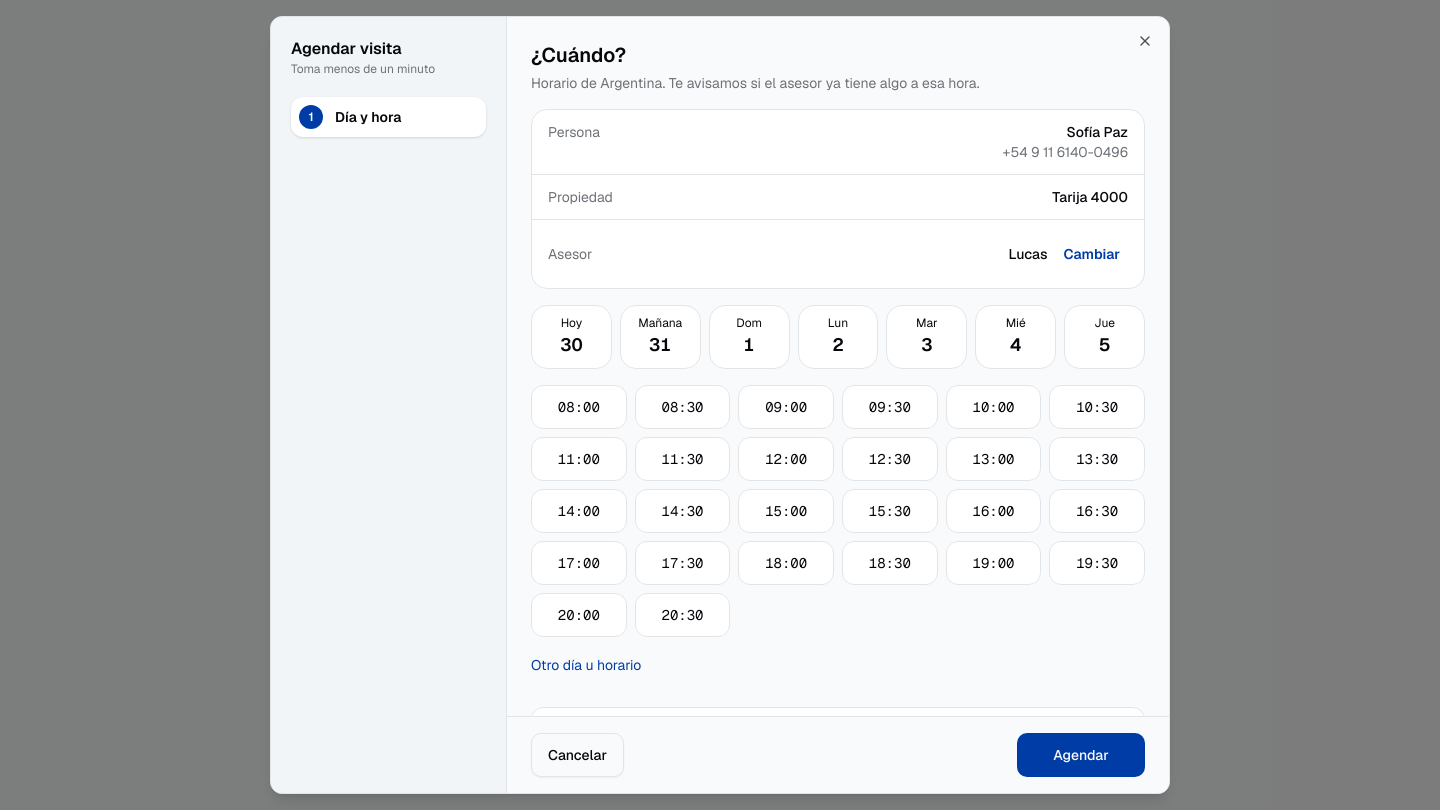
AgendarDesdeConsulta › al agendar no se repite el toast de la ventana: la confirmación es la hoja "Visita agendada"
expect the heading "¿Cuándo?" is shown: met, box [531,42,626,68]
Click the button "Hoy 30" at (571, 337), box [531,305,612,369]
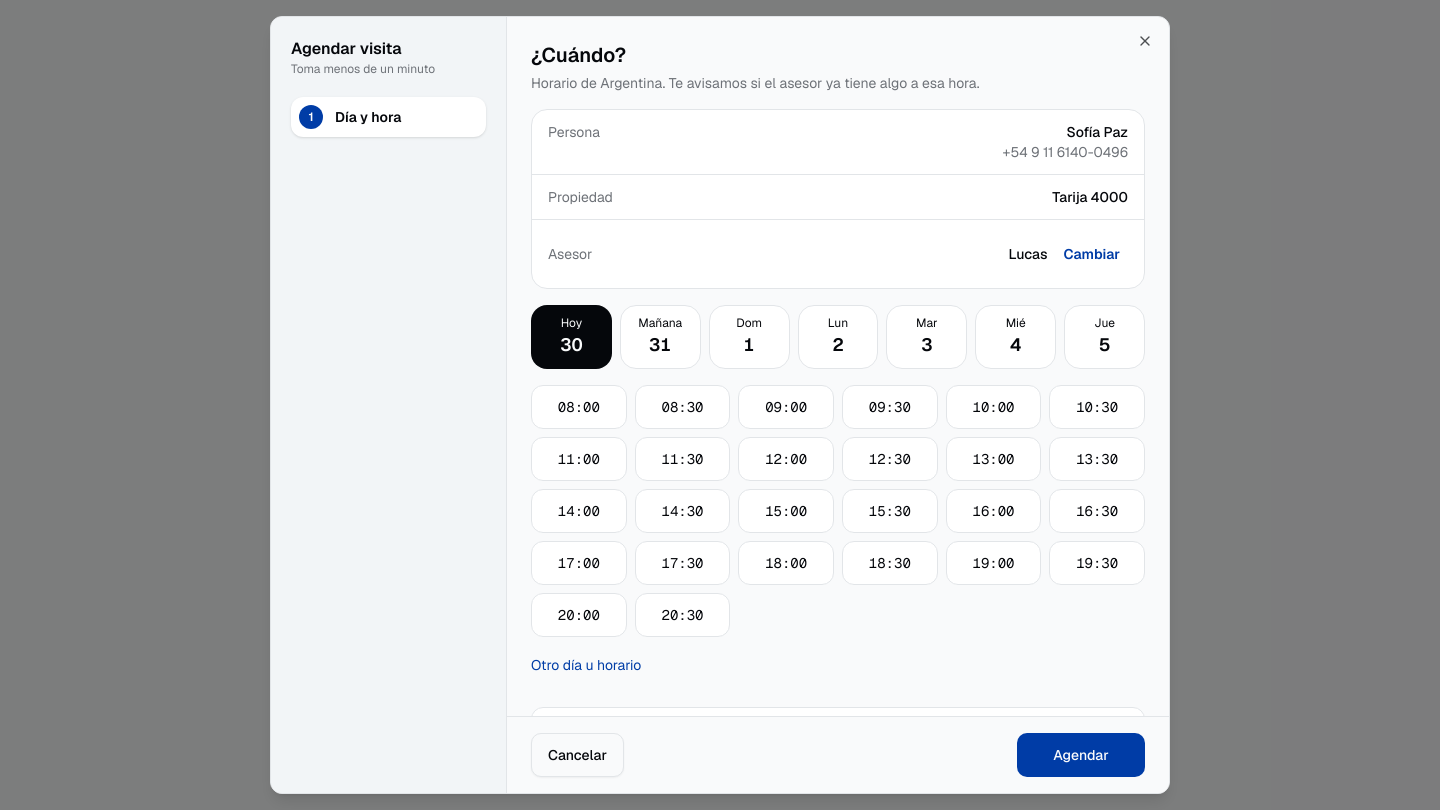
Click the button "10:00" at (994, 407), box [946,385,1041,429]
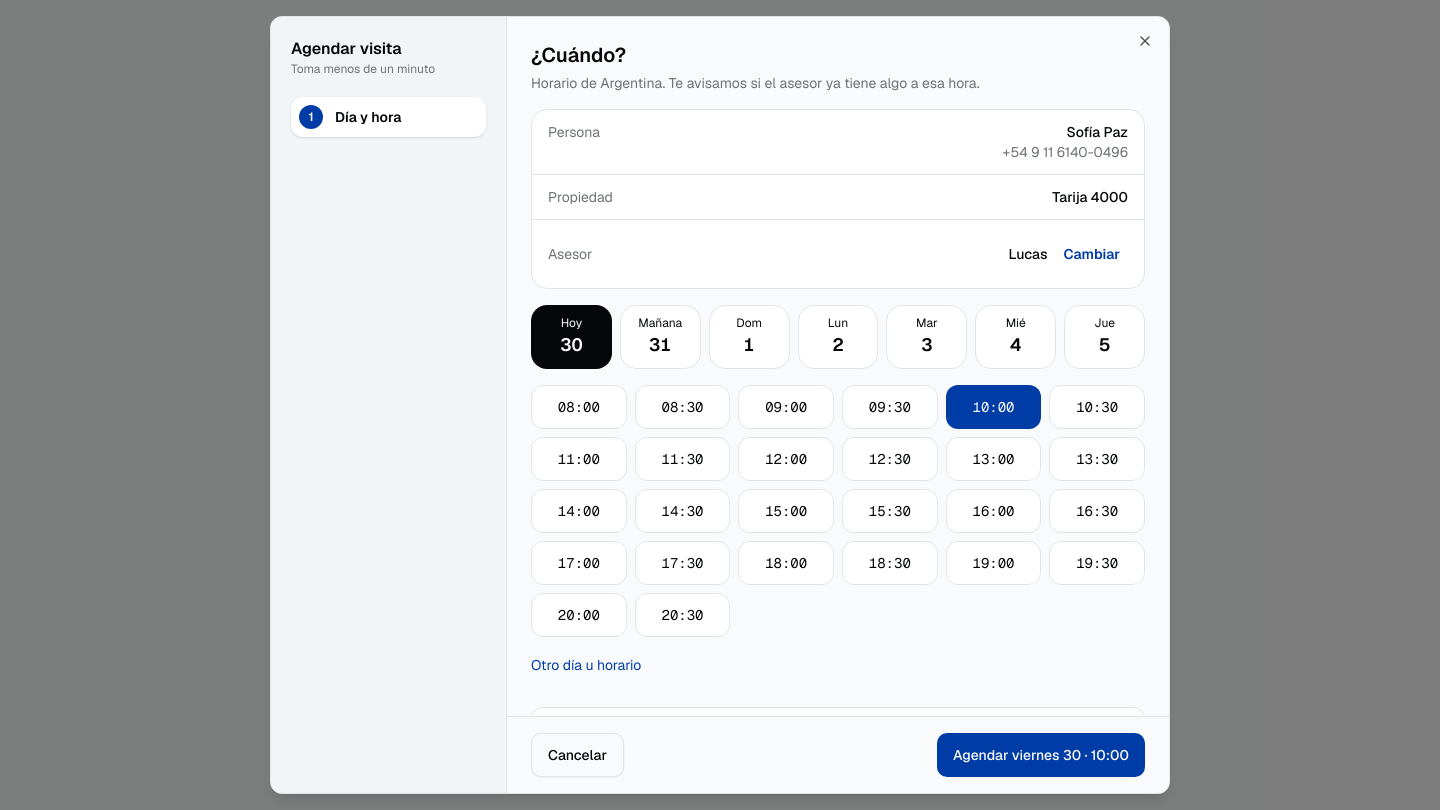
Click the button "Agendar viernes 30 · 10:00" at (1041, 755), box [937,733,1145,777]
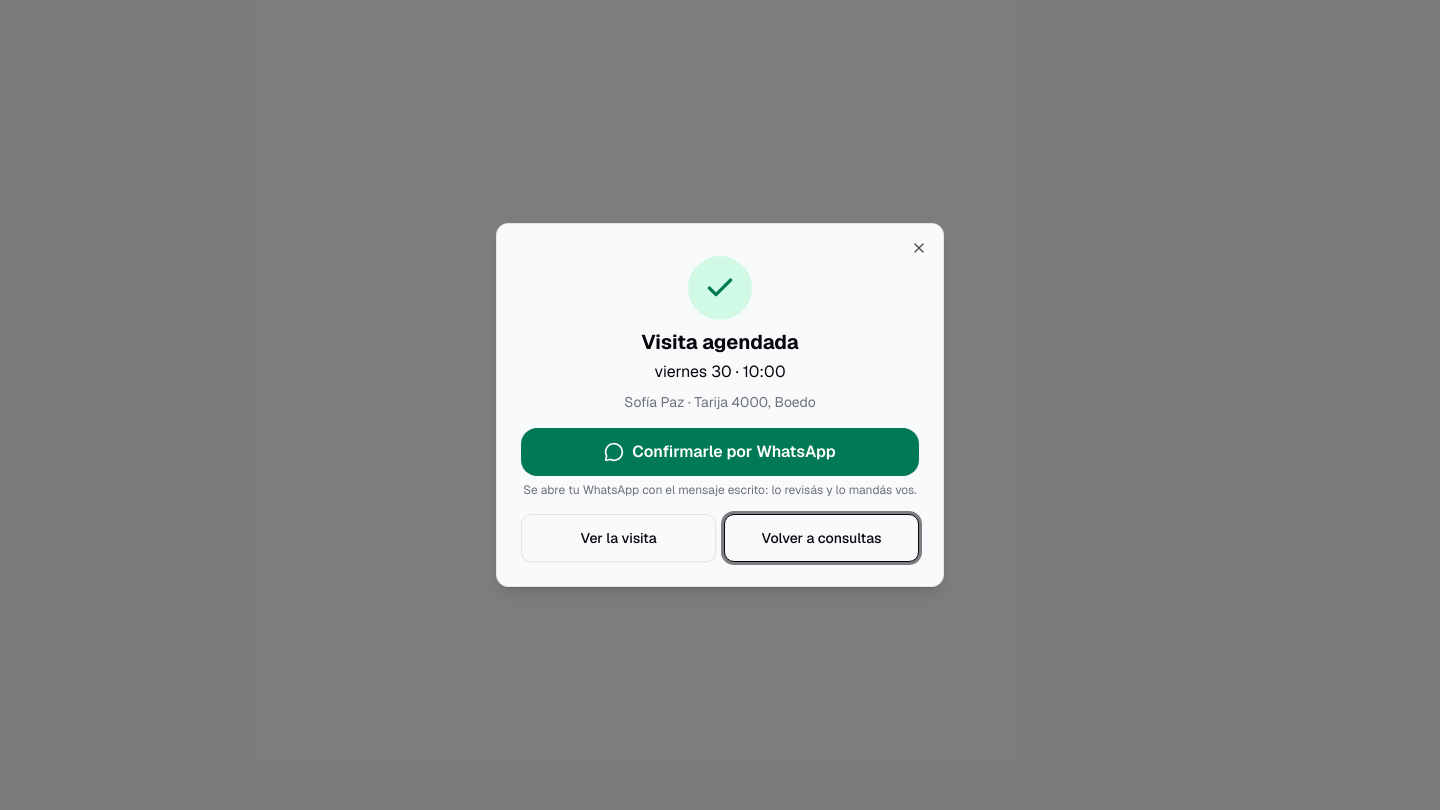
expect the heading "Visita agendada viernes 30 · 10:00" is shown: met, box [641,328,799,384]
